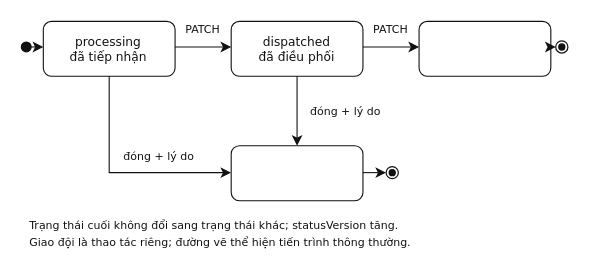
Some shapes in this 589 by 272 pixel diagram are drawn without their labels. Each missing label, with the centre of its shape:
"cancelled đã đóng" belongs at point (296, 173).
"resolved hoàn tất" belongs at point (484, 48).
